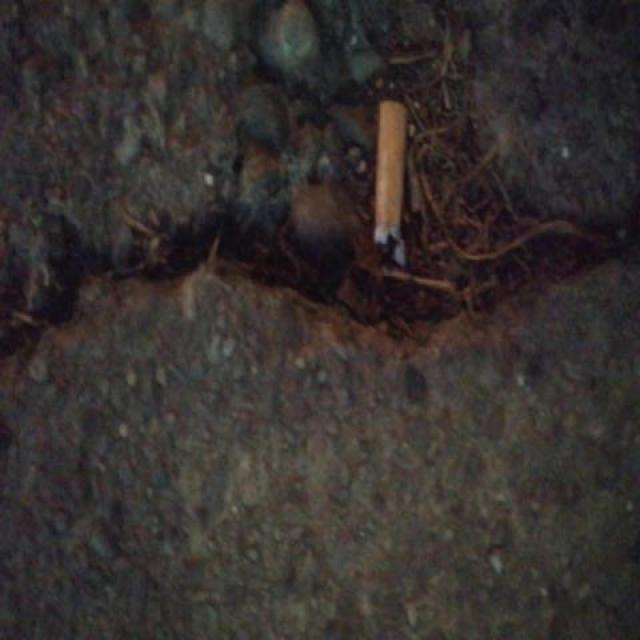non-organic waste: (371, 94, 414, 275)
